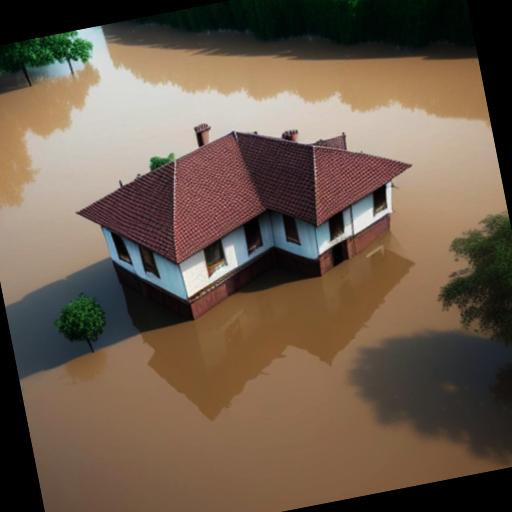flood: (0, 22, 512, 512)
house: (63, 83, 437, 344)
